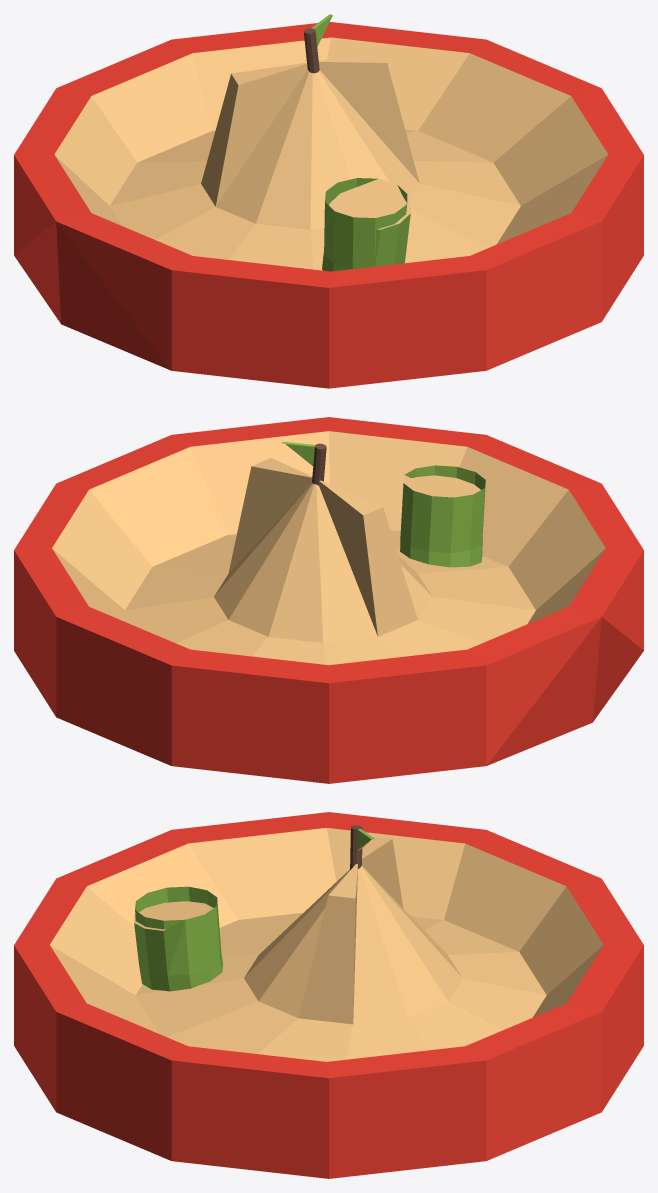
The model's file is Sandbox.glb.
3 renders of one model, top to bottom at view 1: azimuth 30°, elevation 25°; view 2: azimuth 150°, elevation 25°; view 3: azimuth 270°, elevation 25°, orthographic.
Visible parts, largest first — view 1: group223979644, group1101206371, group1424928973; view 2: group223979644, group1101206371, group1424928973; view 3: group223979644, group1101206371, group1424928973.
Part boxes in pixels (x1,y1,x2,y2): group223979644: (14, 22, 643, 388); group1101206371: (322, 178, 410, 271); group1424928973: (304, 14, 332, 73); group223979644: (14, 417, 643, 783); group1101206371: (400, 465, 485, 567); group1424928973: (282, 441, 326, 485); group223979644: (14, 812, 643, 1178); group1101206371: (134, 886, 222, 991); group1424928973: (350, 825, 374, 869).
Bounding box in the file's own units: 0.5219 × 0.2048 × 0.5219.
